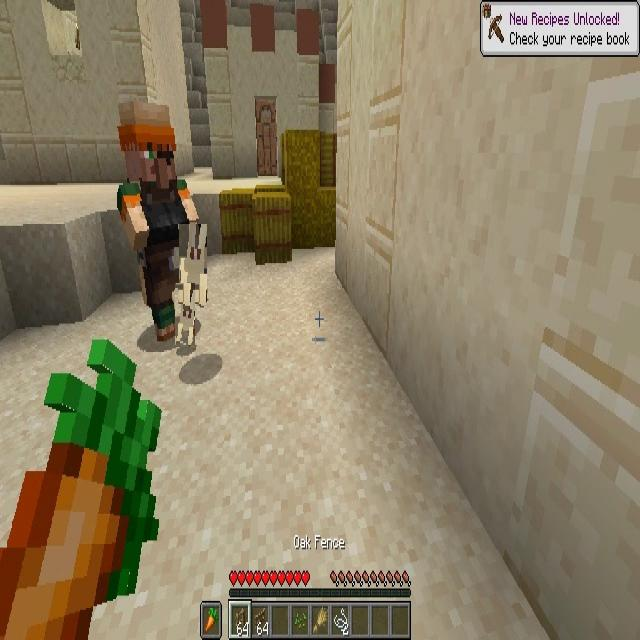people: (117, 103, 199, 343)
rabbit: (179, 224, 207, 306), (175, 283, 195, 347)
